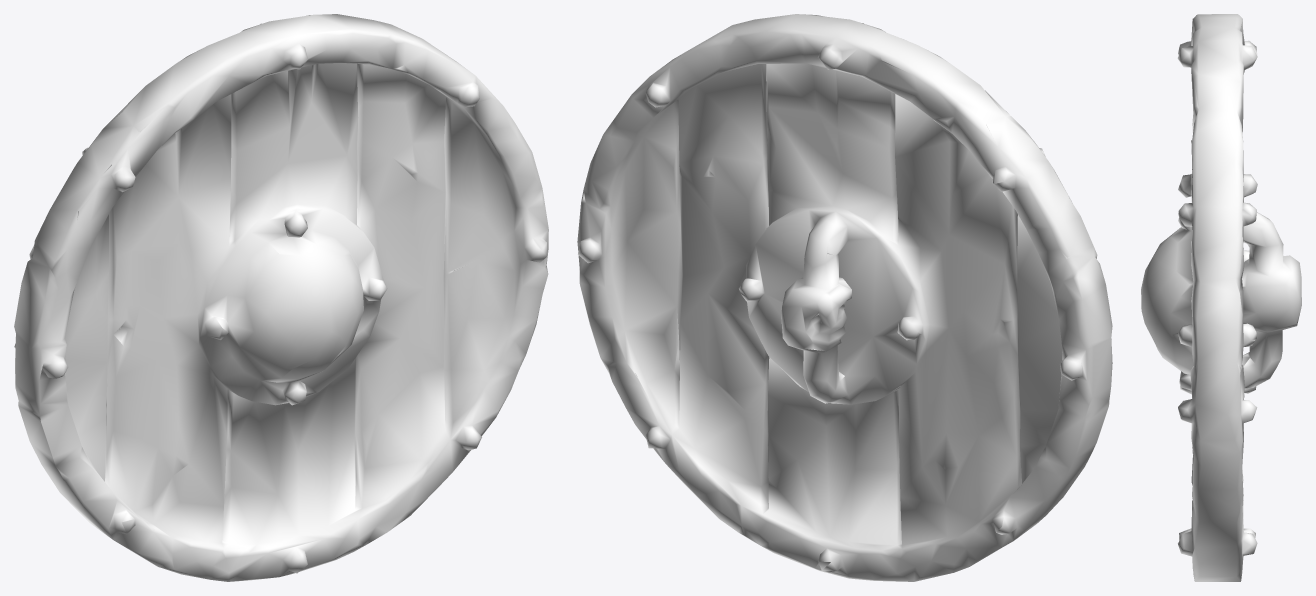
Rendered from shield_oak.glb.
3 renders of one model, left to right at view 1: azimuth 30°, elevation 25°; view 2: azimuth 150°, elevation 25°; view 3: azimuth 270°, elevation 25°, orthographic. The views are drawn at different scales.
Visible parts, largest first — view 1: shield_oak; view 2: shield_oak; view 3: shield_oak.
Part boxes in pixels (<box>): shield_oak: <box>14,14,548,581</box>; shield_oak: <box>577,14,1112,581</box>; shield_oak: <box>1141,14,1301,581</box>.
Bounding box in the file's own units: 0.6985 × 0.698 × 0.1967.
1 material, 1 textured.
